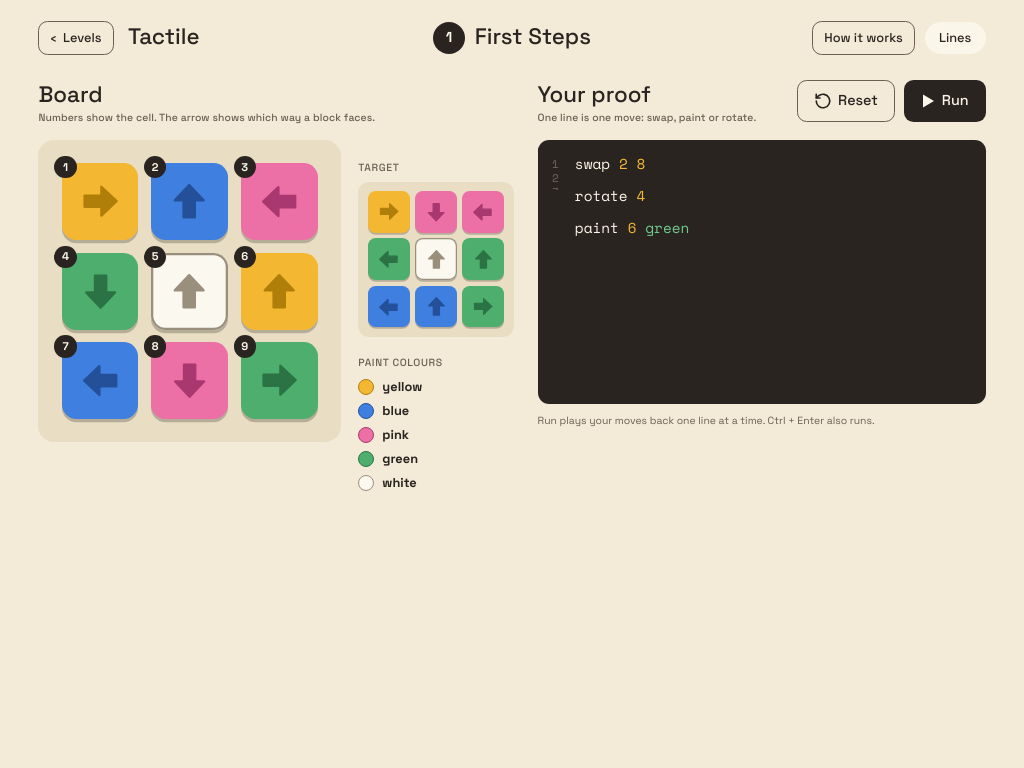
Test: the app mounts without errors (this is what a blank page would break) › says the checker is offline when the server cannot be reached, and saves nothing
Click the button "Run".
click(945, 101)  # box [904, 80, 986, 122]
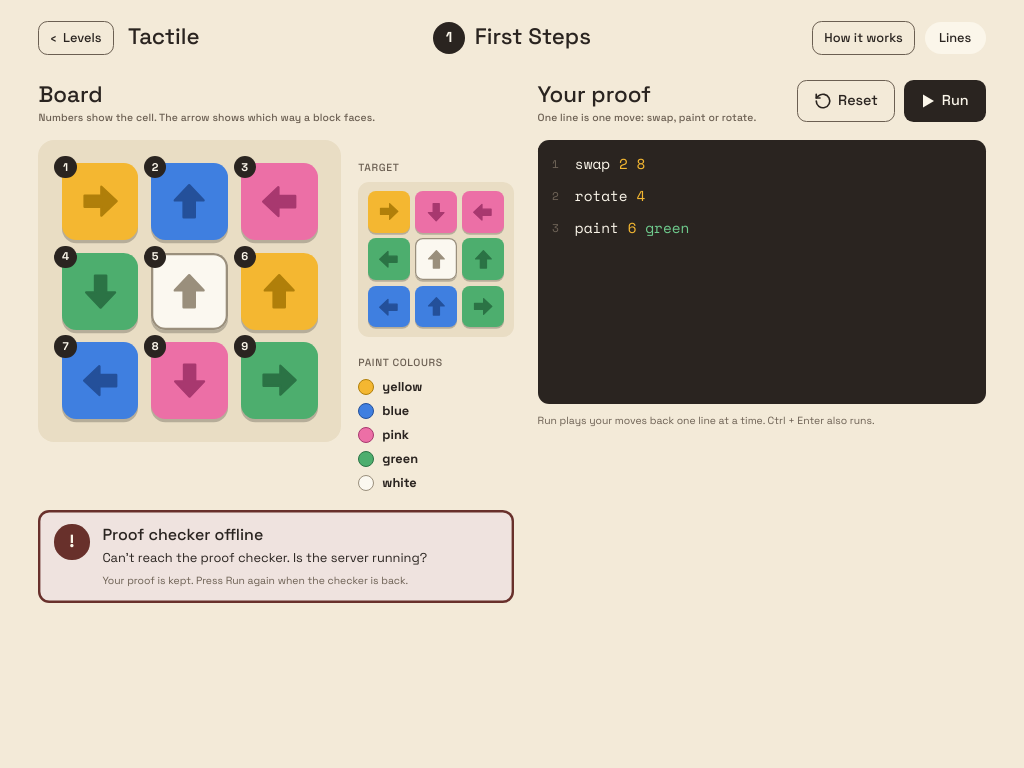
Now the text "Proof checker offline" is shown, box [102, 524, 263, 545]
